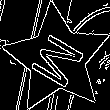M_SE: (24, 26, 90, 92)
